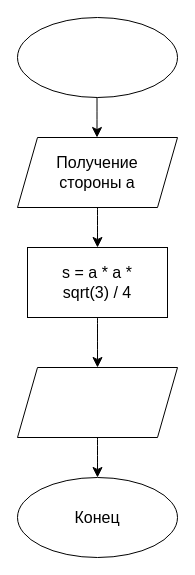
The diagram is 195 pixels wide and 575 high, and some of its shapes have lost their labels. The centre of each missing label's shape, as x and y in pixels:
"Возврат s" goes at [97,402].
"Начало" goes at [97,57].
